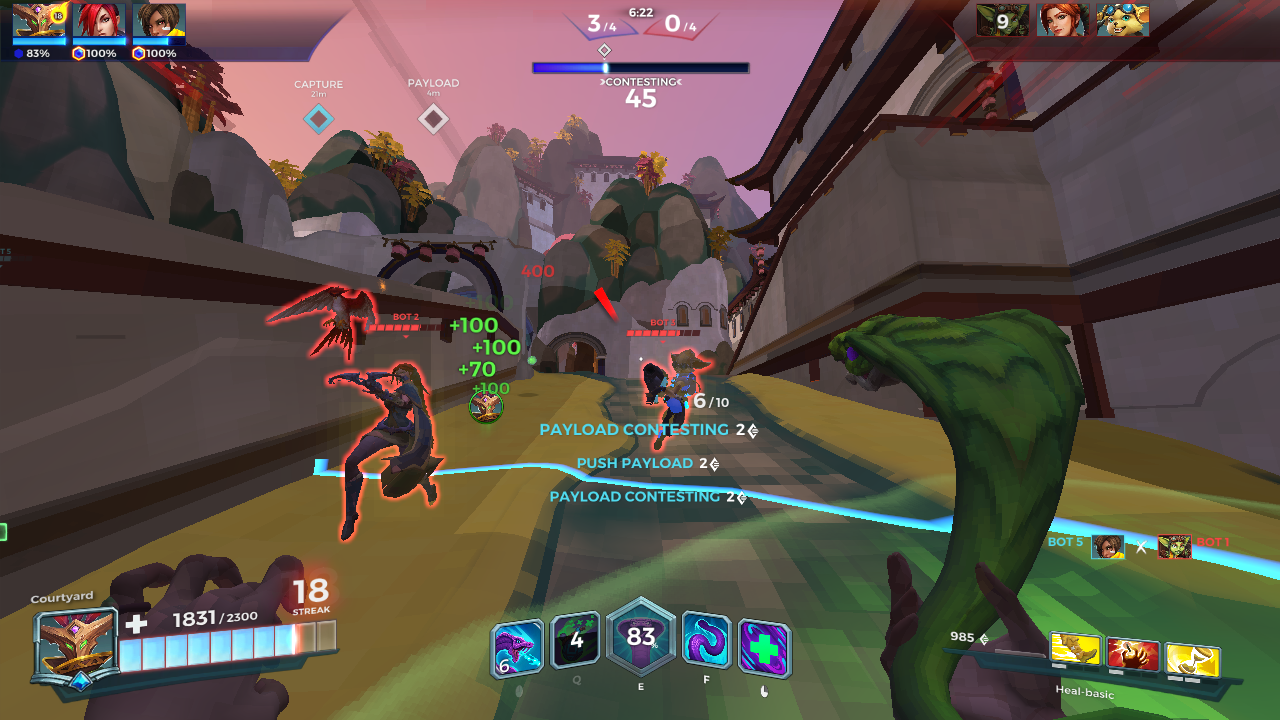model: (330, 348, 451, 517), (637, 346, 700, 441)
